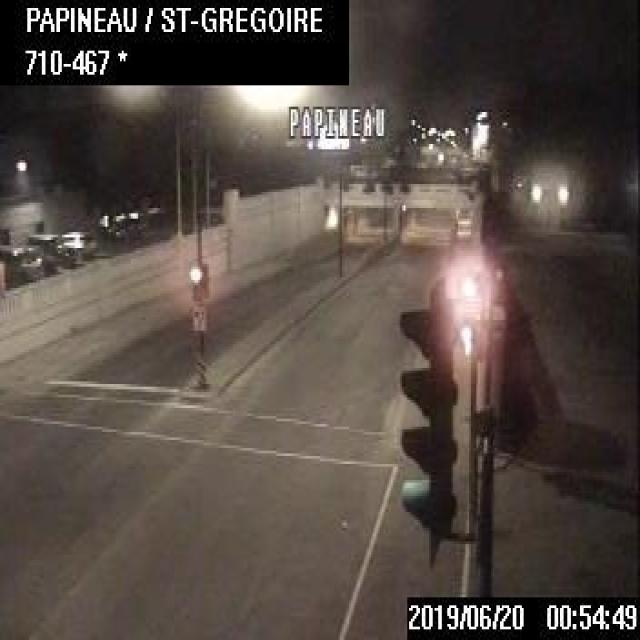vehicle: (57, 227, 95, 259)
